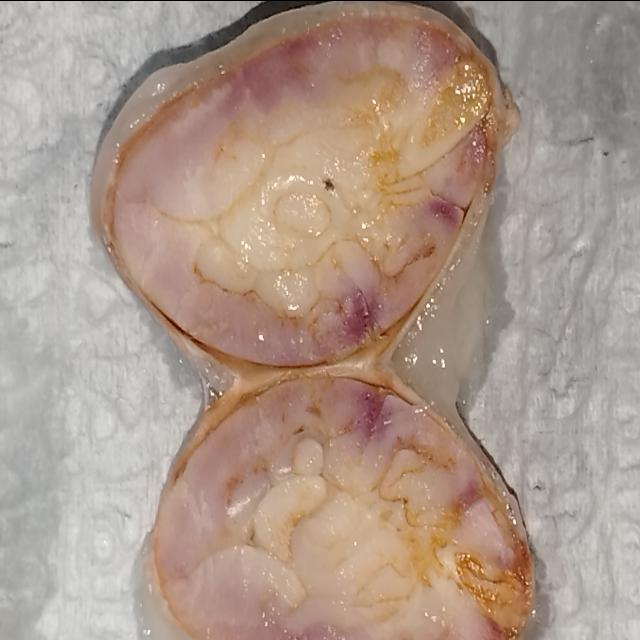Trinitario: (77, 0, 516, 398), (128, 386, 520, 640)
